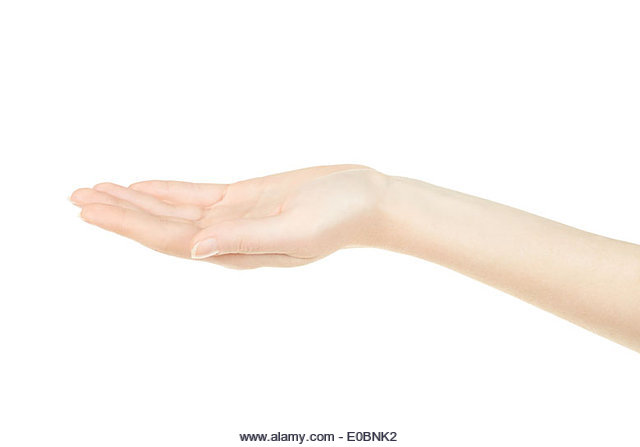non-diseased: (67, 166, 405, 283)
